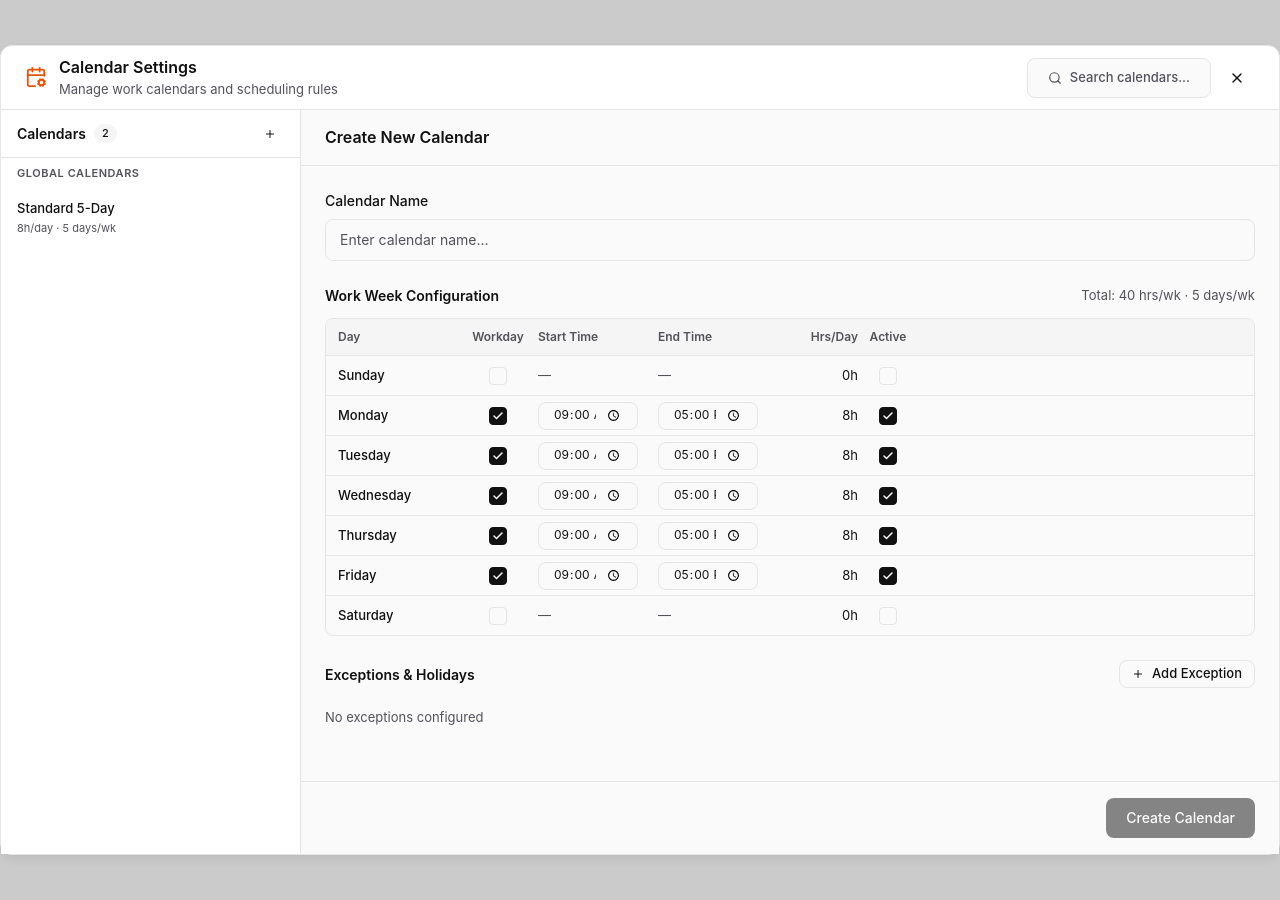
Exceptions display and deletion › renders exception names when calendar has exceptions
Click the text "Standard 5-Day" at (66, 209), box [17,199,115,219]
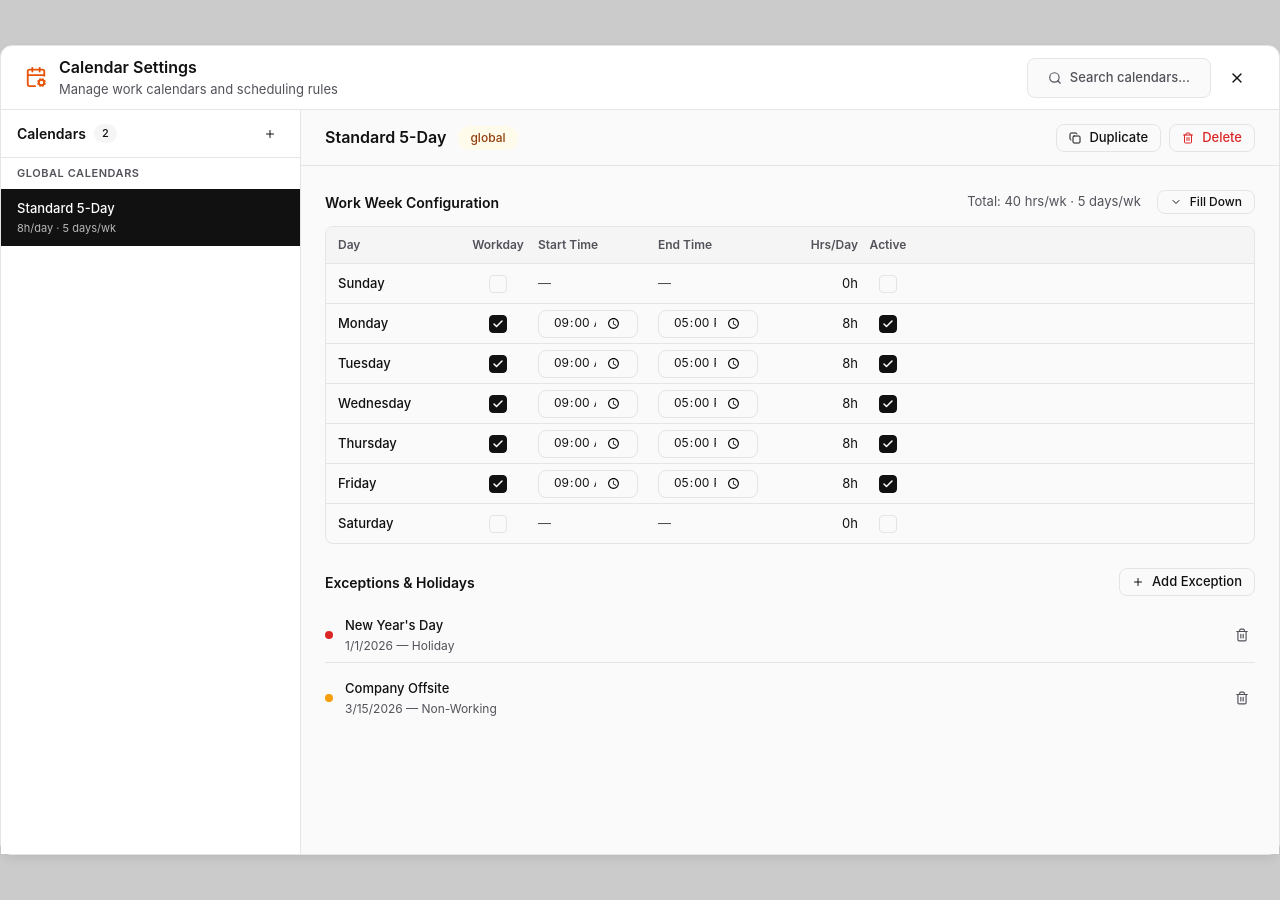
Expected: the text "New Year's Day" is shown, [345,617,443,633]
Expected: the text "Company Offsite" is shown, [345,680,449,696]
